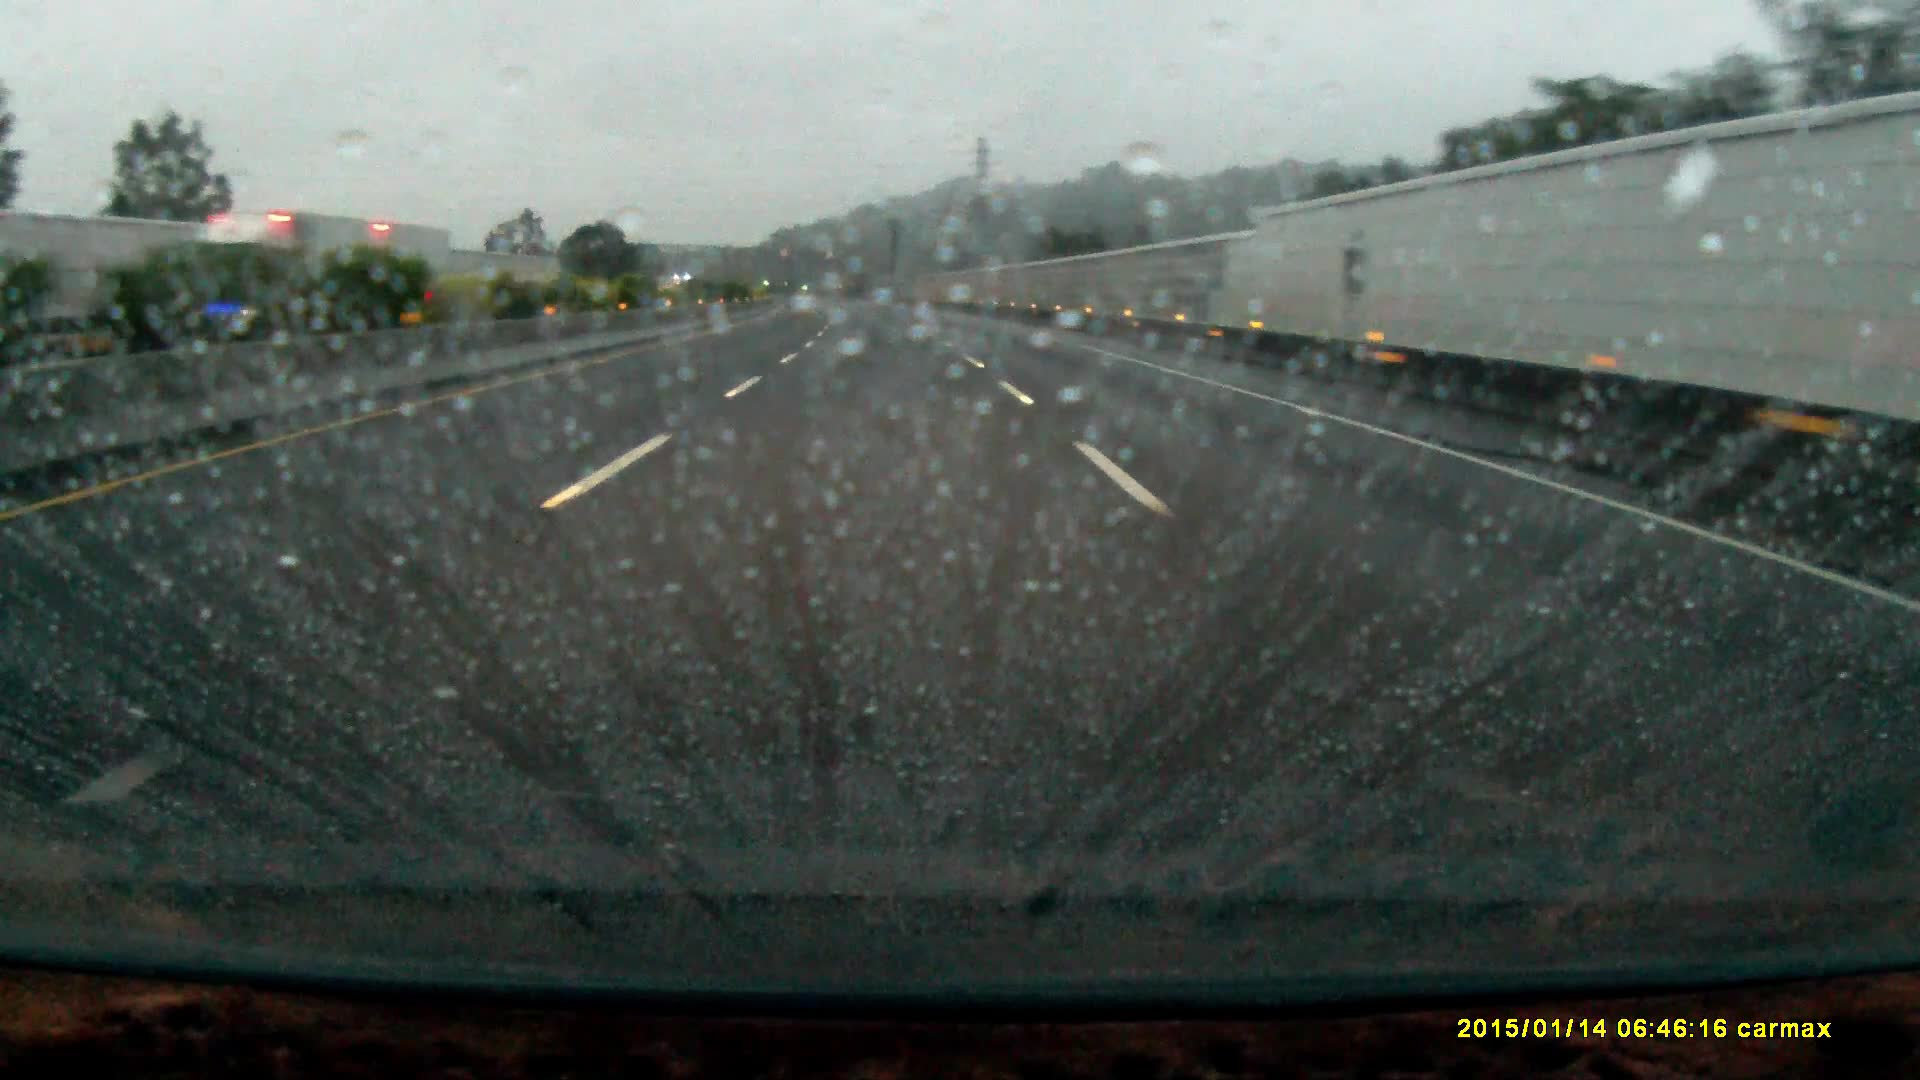vehicle: (177, 218, 462, 331)
